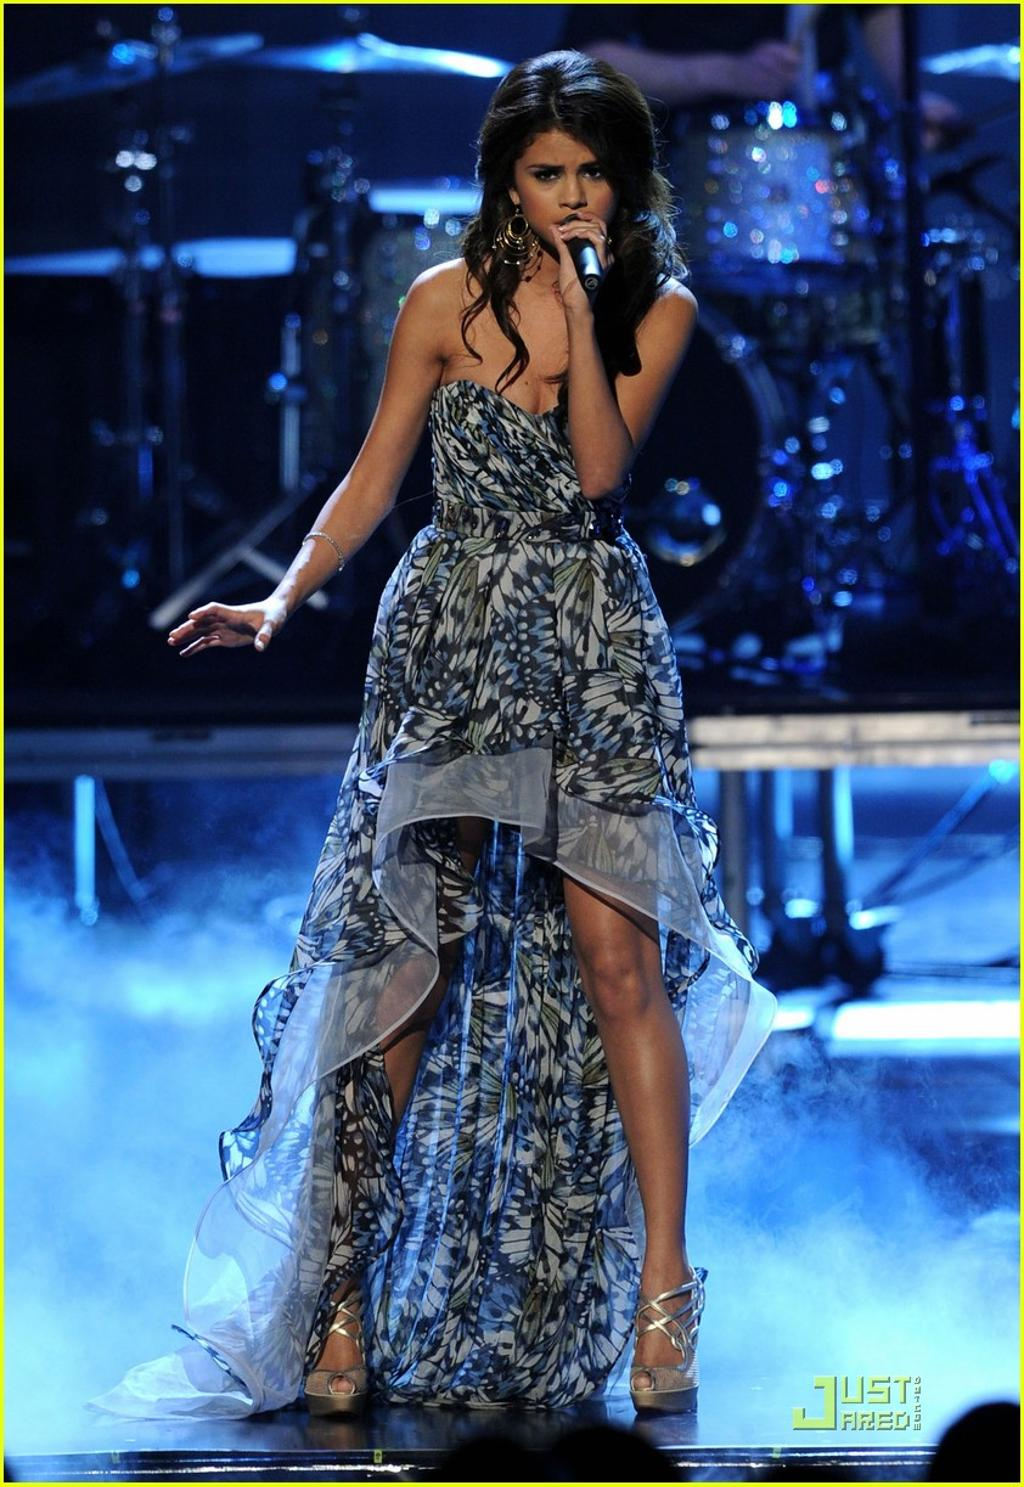face: (511, 122, 627, 247)
